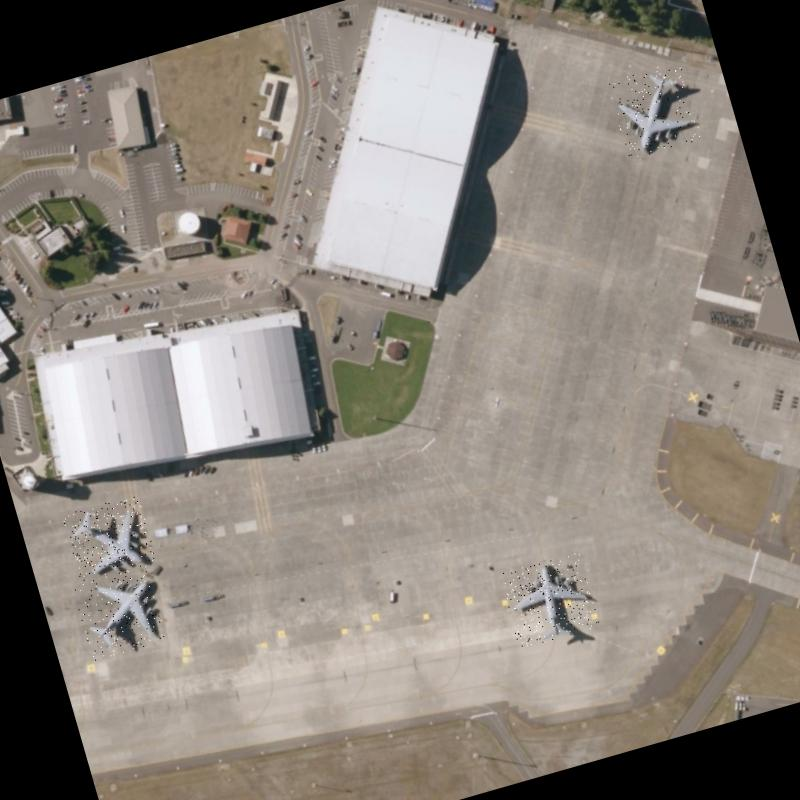A3: (498, 550, 600, 648), (606, 60, 702, 160), (62, 493, 158, 585), (72, 568, 167, 660)
